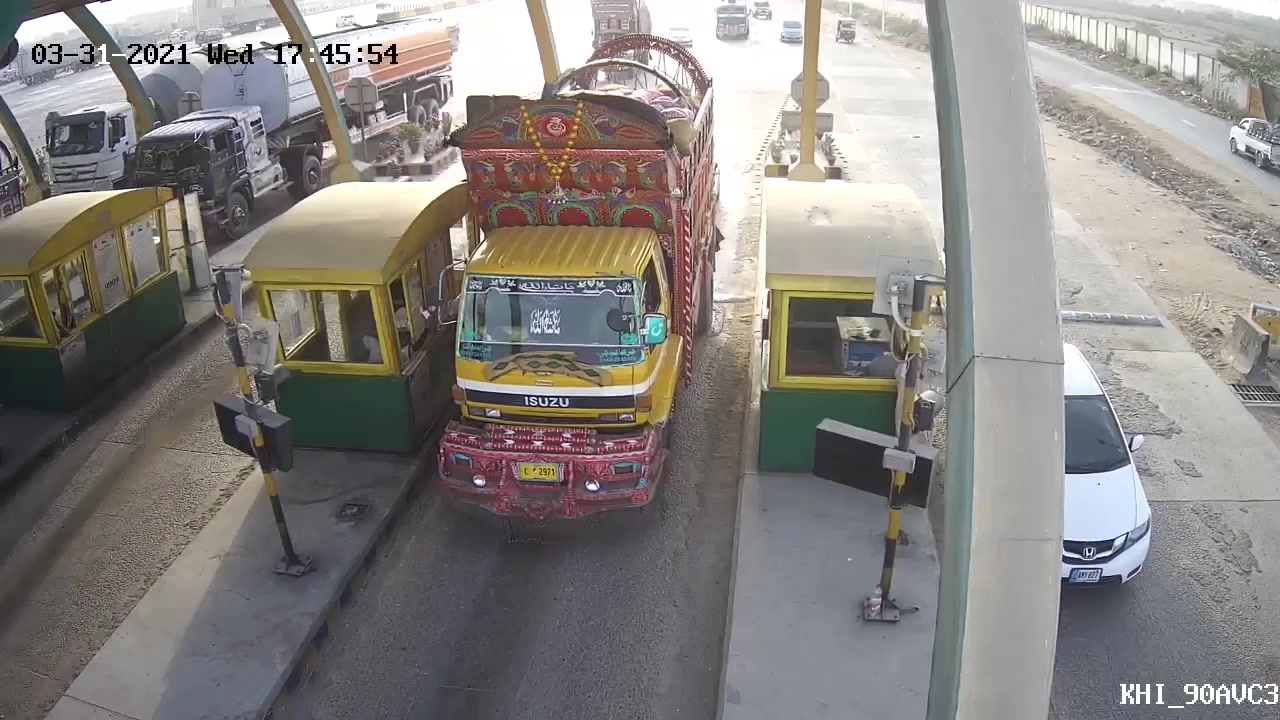F5: (408, 45, 723, 547)
